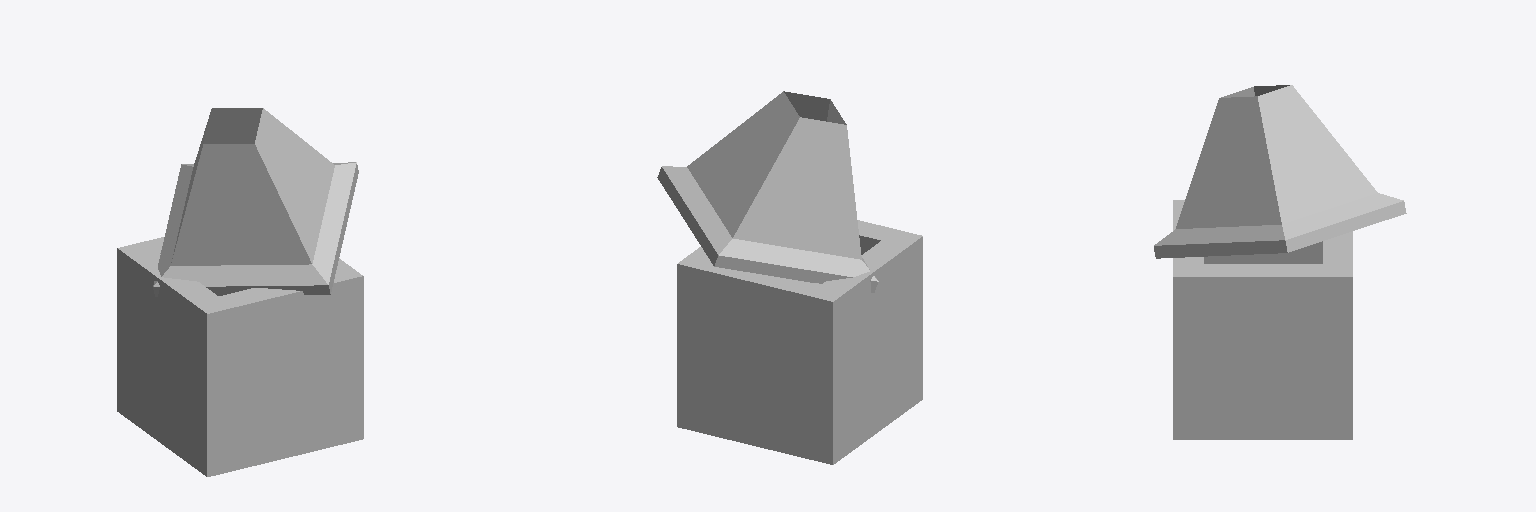
The model's file is AnimatedBox_000129.obj.
The picture shows the model from 3 angles: view 1: azimuth 30°, elevation 25°; view 2: azimuth 150°, elevation 25°; view 3: azimuth 270°, elevation 25°; orthographic projection.
Parts seen in each view (by area): view 1: Cube, Cube.001; view 2: Cube, Cube.001; view 3: Cube, Cube.001.
Boxes of the visible parts, x1,y1,x2,y2 form: Cube: [117, 237, 363, 476]; Cube.001: [153, 108, 358, 296]; Cube: [677, 220, 922, 464]; Cube.001: [657, 91, 878, 292]; Cube: [1173, 200, 1352, 439]; Cube.001: [1154, 85, 1406, 258].
Size of the model in its own units: 2.74 by 3.86 by 2.81.